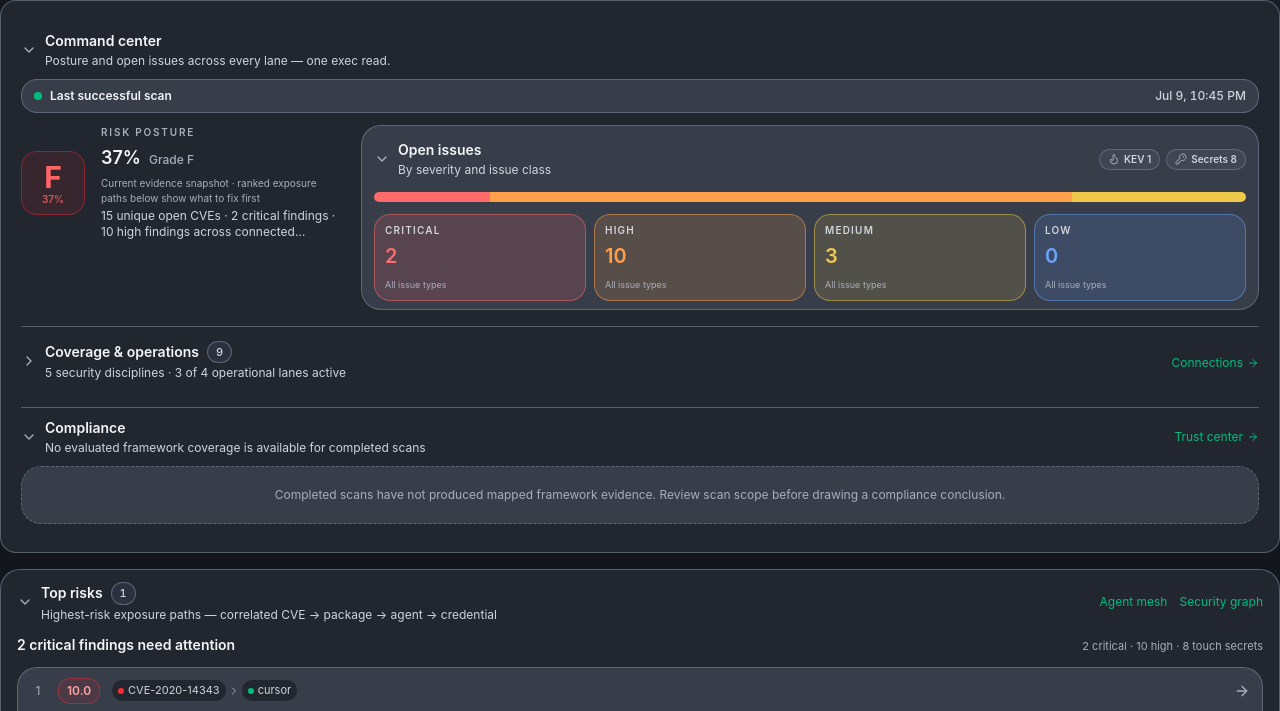
it: OverviewCockpit › renders the five security coverage lanes with reconciled severity strips
Click the button "Coverage & operations" at (122, 351), box [21, 340, 1164, 381]
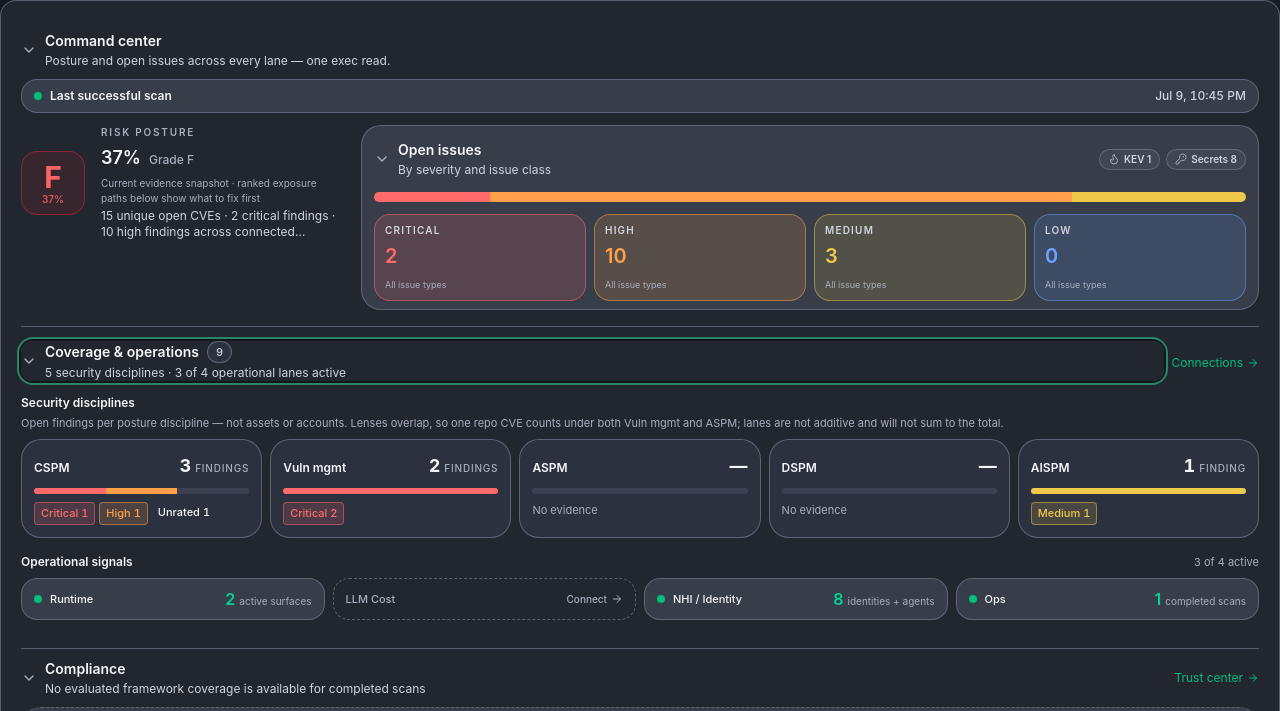
Expected: the element with test id "overview-security-coverage" is shown, [21, 391, 1259, 538]
Expected: the text "Open findings per posture discipline" is shown, [21, 416, 1004, 430]
Expected: the text "findings?" in the row of "CSPM" is shown, [195, 462, 249, 474]
